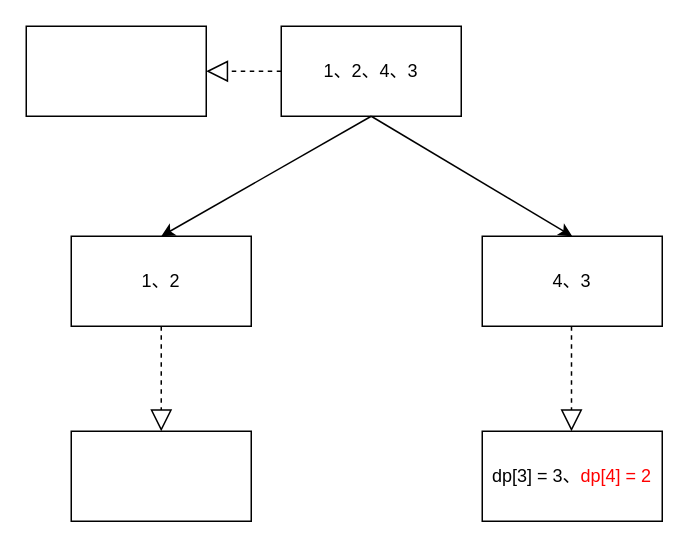
Some shapes in this 689 by 548 pixel diagram are drawn without their labels. The centre of each missing label's shape, as x and y in pixels:
"dp[1] = 1、 dp[2] = 2" goes at (160,475).
"dp[3] = 3 、dp[4] = 1" goes at (115,70).
